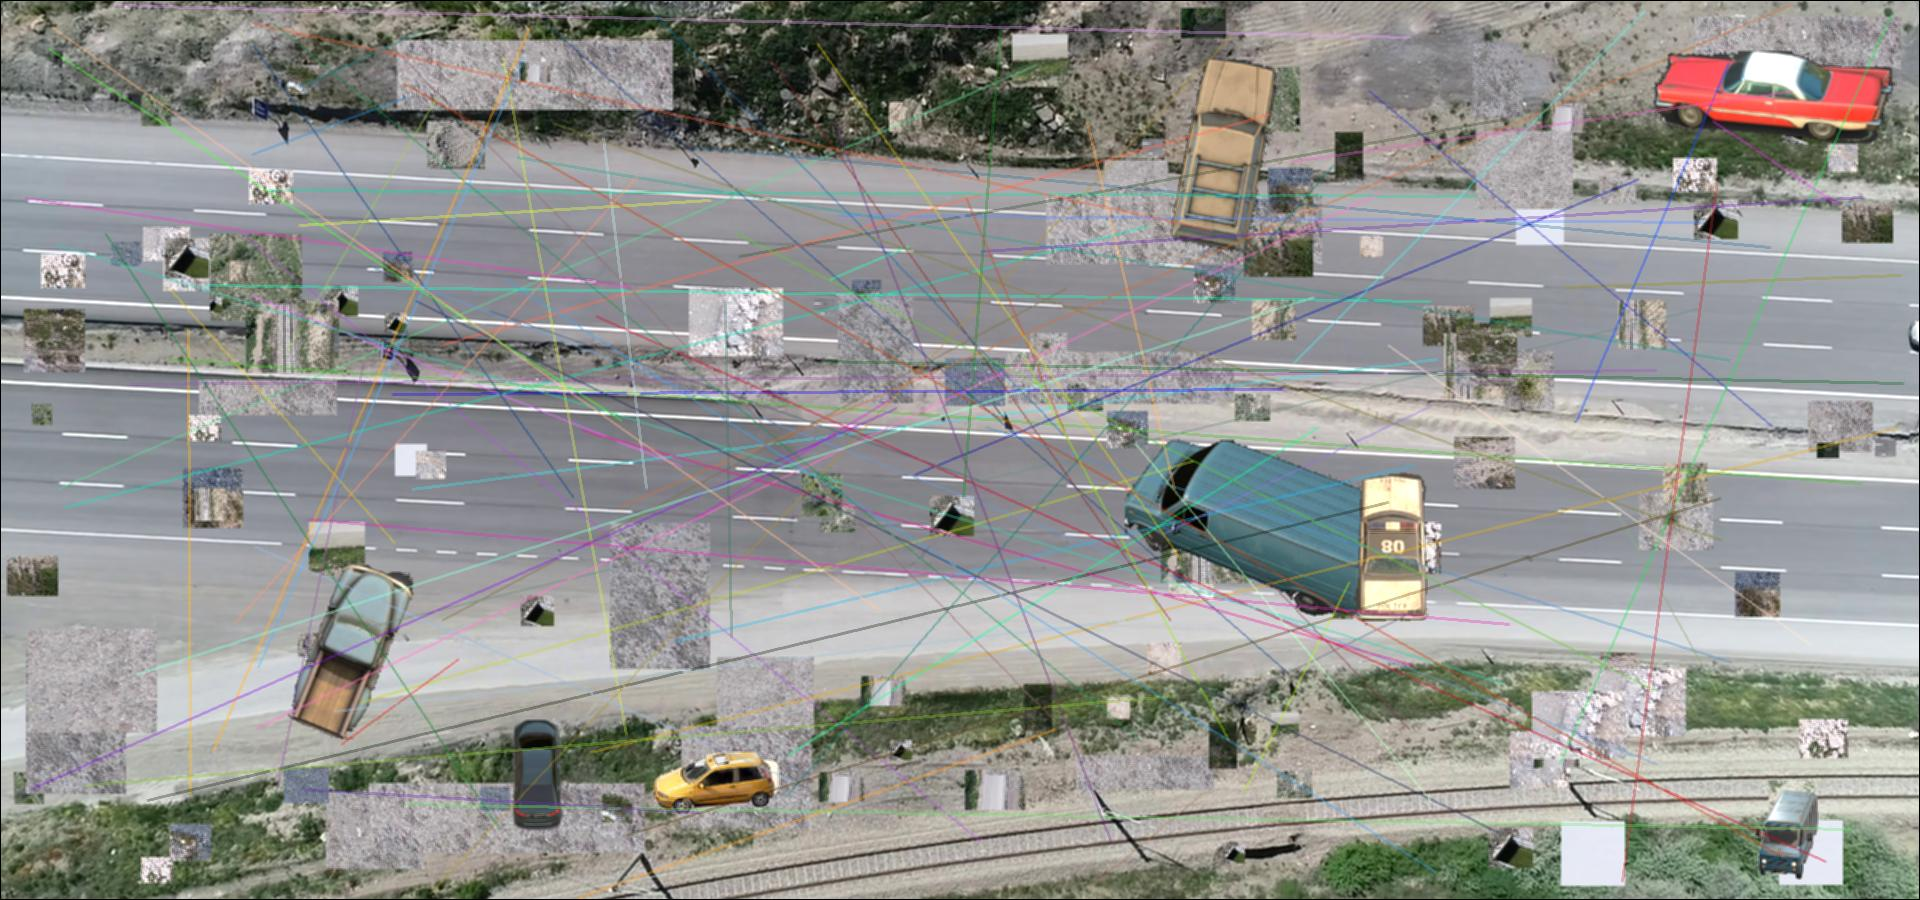arac: (1125, 436, 1397, 616), (288, 564, 418, 740), (1652, 51, 1899, 143), (1171, 53, 1277, 260), (1354, 471, 1431, 629), (654, 752, 779, 813), (507, 720, 566, 831), (1753, 789, 1820, 879), (689, 756, 785, 801)
